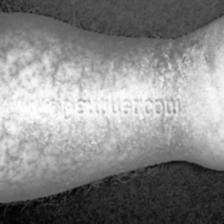Non-Cancerous Skin Condition: (69, 47, 224, 94), (0, 30, 43, 190), (115, 127, 224, 158), (51, 124, 92, 180)
